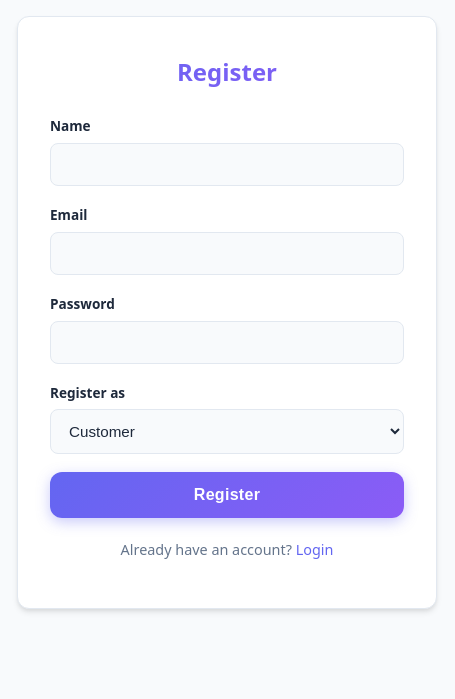
Register › shows error when password is too short
The image size is (455, 699).
Type "John" into the field labelled "Name".
click(227, 165); type("John")  # box [50, 143, 404, 186]
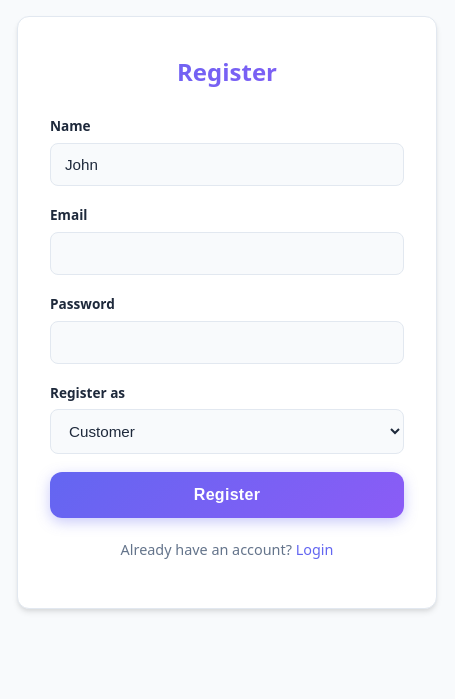
Type "john@test.com" into the field labelled "Email".
click(227, 253); type("john@test.com")  # box [50, 232, 404, 275]
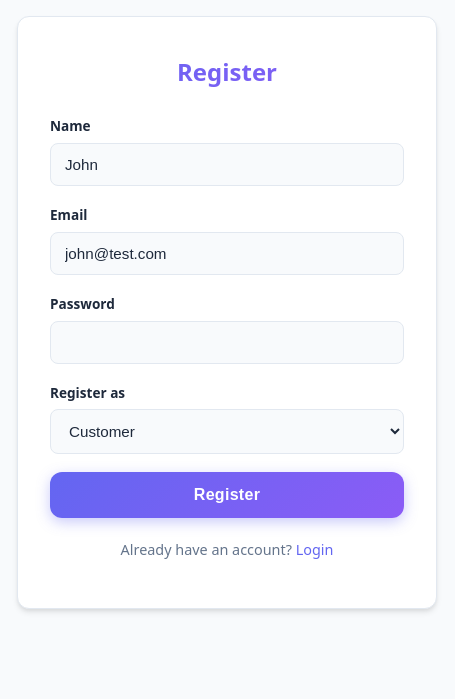
Type "12345" into the password field labelled "Password".
click(227, 342); type("12345")  # box [50, 321, 404, 364]
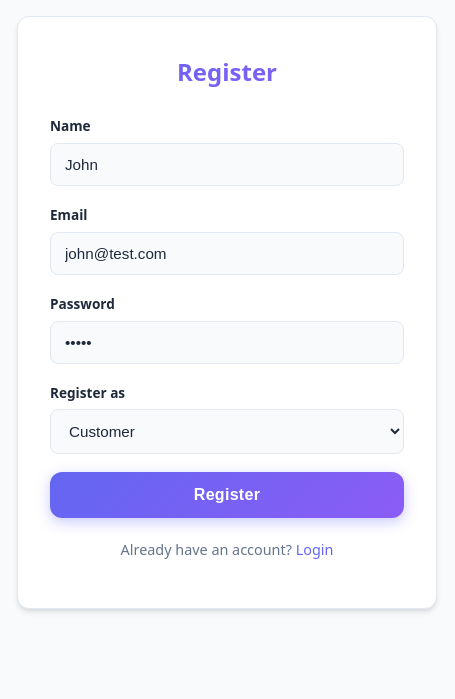
Click the button "Register".
click(227, 495)  # box [50, 472, 404, 518]
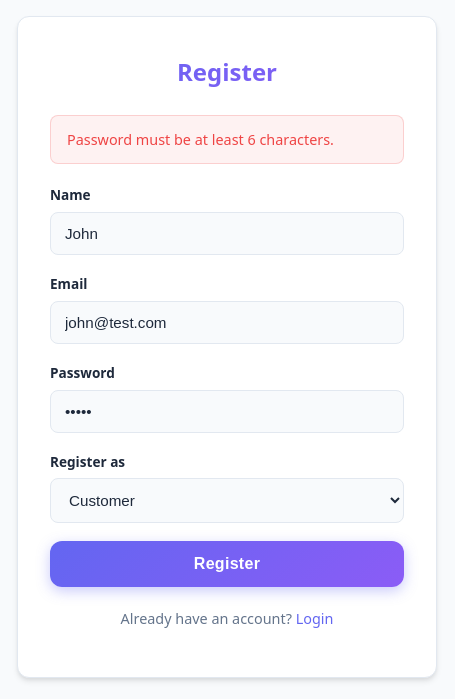
Expected: the text "Password must be at least 6 characters." is shown, [50, 115, 404, 164]
